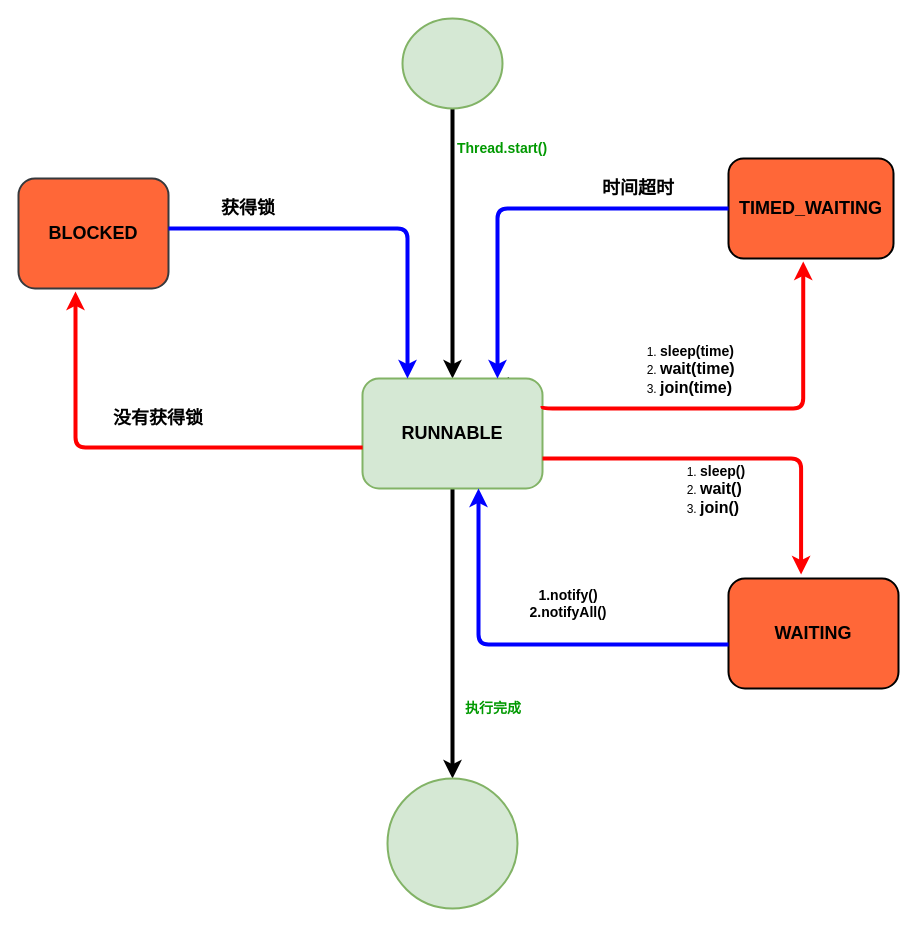
Image size: 916x926. Some labels were removed from this diagram. Each missing label, with the centre of its shape:
"NEW" belongs at point (452, 63).
"TERMINATED" belongs at point (452, 843).
